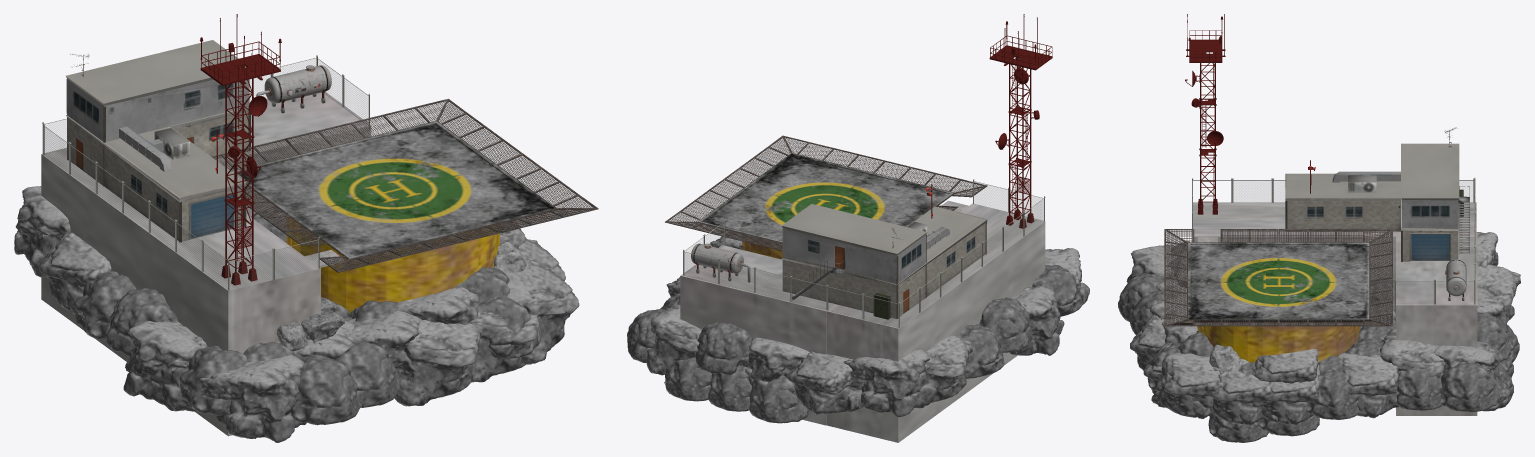
Rendered from mainbase.glb.
The picture shows the model from 3 angles, left to right: view 1: azimuth 30°, elevation 25°; view 2: azimuth 150°, elevation 25°; view 3: azimuth 270°, elevation 25°; orthographic projection. The views are drawn at different scales.
Parts seen in each view (by area): view 1: antenna_04, Helipad, garage_build_S, 5.014, 5.013, 5.001, 5.018, 2.019, fence__Cylinder.001, 5.002, 5.003, 2.020 (+19 smaller); view 2: antenna_04, Helipad, garage_build_S, 5.003, 5.006, fence__Cylinder, fence__Cylinder.001, 5.004, 2.004, 5.001, 5.007, 5.002 (+11 smaller); view 3: Helipad, antenna_04, garage_build_S, 5.018, 5.011, 2.025, 5.017, 5.016, 5.005, 5.009, 2.023, 2.024 (+23 smaller).
Part boxes in pixels (left/top/right/bottom): antenna_04: left=41, top=14, right=499, bottom=436; Helipad: left=211, top=98, right=598, bottom=272; garage_build_S: left=66, top=40, right=250, bottom=242; 5.014: left=199, top=354, right=306, bottom=442; 5.013: left=394, top=320, right=482, bottom=406; 5.001: left=123, top=321, right=207, bottom=412; 5.018: left=505, top=265, right=579, bottom=364; 2.019: left=290, top=355, right=362, bottom=425; fence__Cylinder.001: left=43, top=123, right=229, bottom=290; 5.002: left=39, top=232, right=111, bottom=314; 5.003: left=14, top=186, right=70, bottom=278; 2.020: left=335, top=341, right=400, bottom=407; antenna_04: left=680, top=14, right=1052, bottom=442; Helipad: left=665, top=135, right=987, bottom=250; garage_build_S: left=781, top=204, right=987, bottom=319; 5.003: left=844, top=348, right=936, bottom=417; 5.006: left=788, top=351, right=863, bottom=414; fence__Cylinder: left=683, top=249, right=899, bottom=327; fence__Cylinder.001: left=899, top=196, right=1044, bottom=327; 5.004: left=646, top=302, right=701, bottom=375; 2.004: left=695, top=322, right=751, bottom=374; 5.001: left=1009, top=286, right=1064, bottom=355; 5.007: left=745, top=337, right=809, bottom=396; 5.002: left=914, top=335, right=972, bottom=408; Helipad: left=1164, top=229, right=1392, bottom=326; antenna_04: left=1185, top=14, right=1477, bottom=415; garage_build_S: left=1285, top=143, right=1469, bottom=261; 5.018: left=1151, top=353, right=1222, bottom=418; 5.011: left=1337, top=352, right=1398, bottom=418; 2.025: left=1440, top=361, right=1499, bottom=412; 5.017: left=1210, top=369, right=1273, bottom=425; 5.016: left=1262, top=365, right=1320, bottom=425; 5.005: left=1379, top=328, right=1445, bottom=404; 5.009: left=1251, top=348, right=1318, bottom=383; 2.023: left=1307, top=369, right=1360, bottom=419; 2.024: left=1394, top=368, right=1443, bottom=410.
Bounding box in the file's own units: 36.03 × 33.53 × 39.62.
80 materials, 73 textured.
